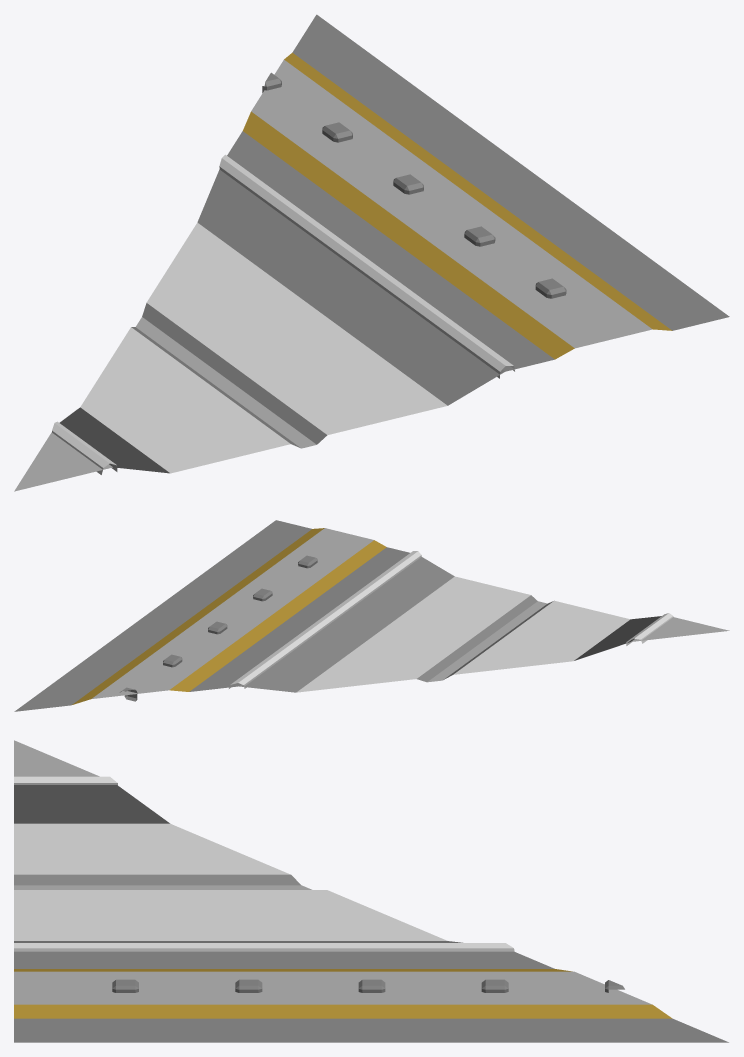
Rendered from Floor_TriangleL_Vs04.FBX.
3 renders of one model, top to bottom at view 1: azimuth 30°, elevation 25°; view 2: azimuth 150°, elevation 25°; view 3: azimuth 270°, elevation 25°, orthographic. The views are drawn at different scales.
Visible parts, largest first — view 1: Floor_TriangleL_Vs04; view 2: Floor_TriangleL_Vs04; view 3: Floor_TriangleL_Vs04.
Boxes of the visible parts, box(x1,y1,x2,y2) form: Floor_TriangleL_Vs04: box(14, 14, 729, 491); Floor_TriangleL_Vs04: box(14, 520, 729, 711); Floor_TriangleL_Vs04: box(14, 740, 728, 1042).
Size of the model in its own units: 200 by 10.83 by 200.
